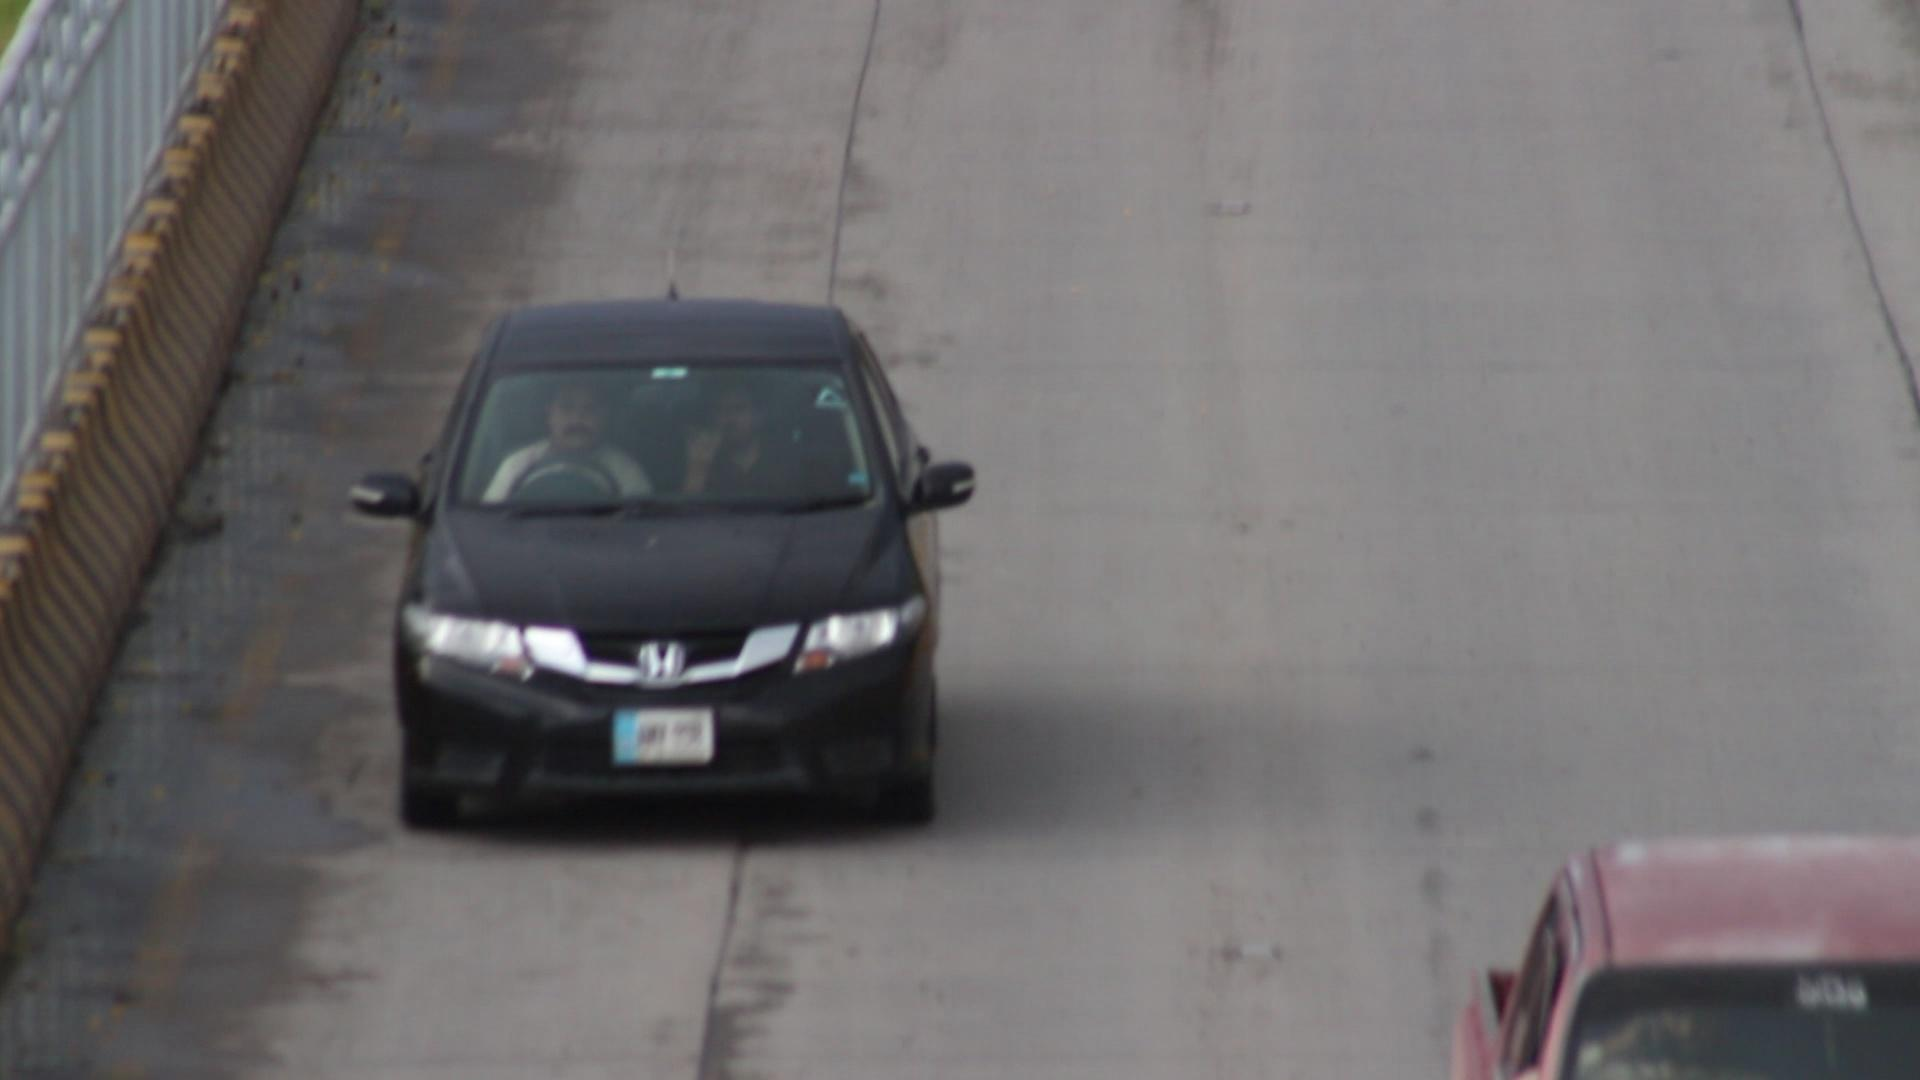windshield: (440, 330, 890, 520)
